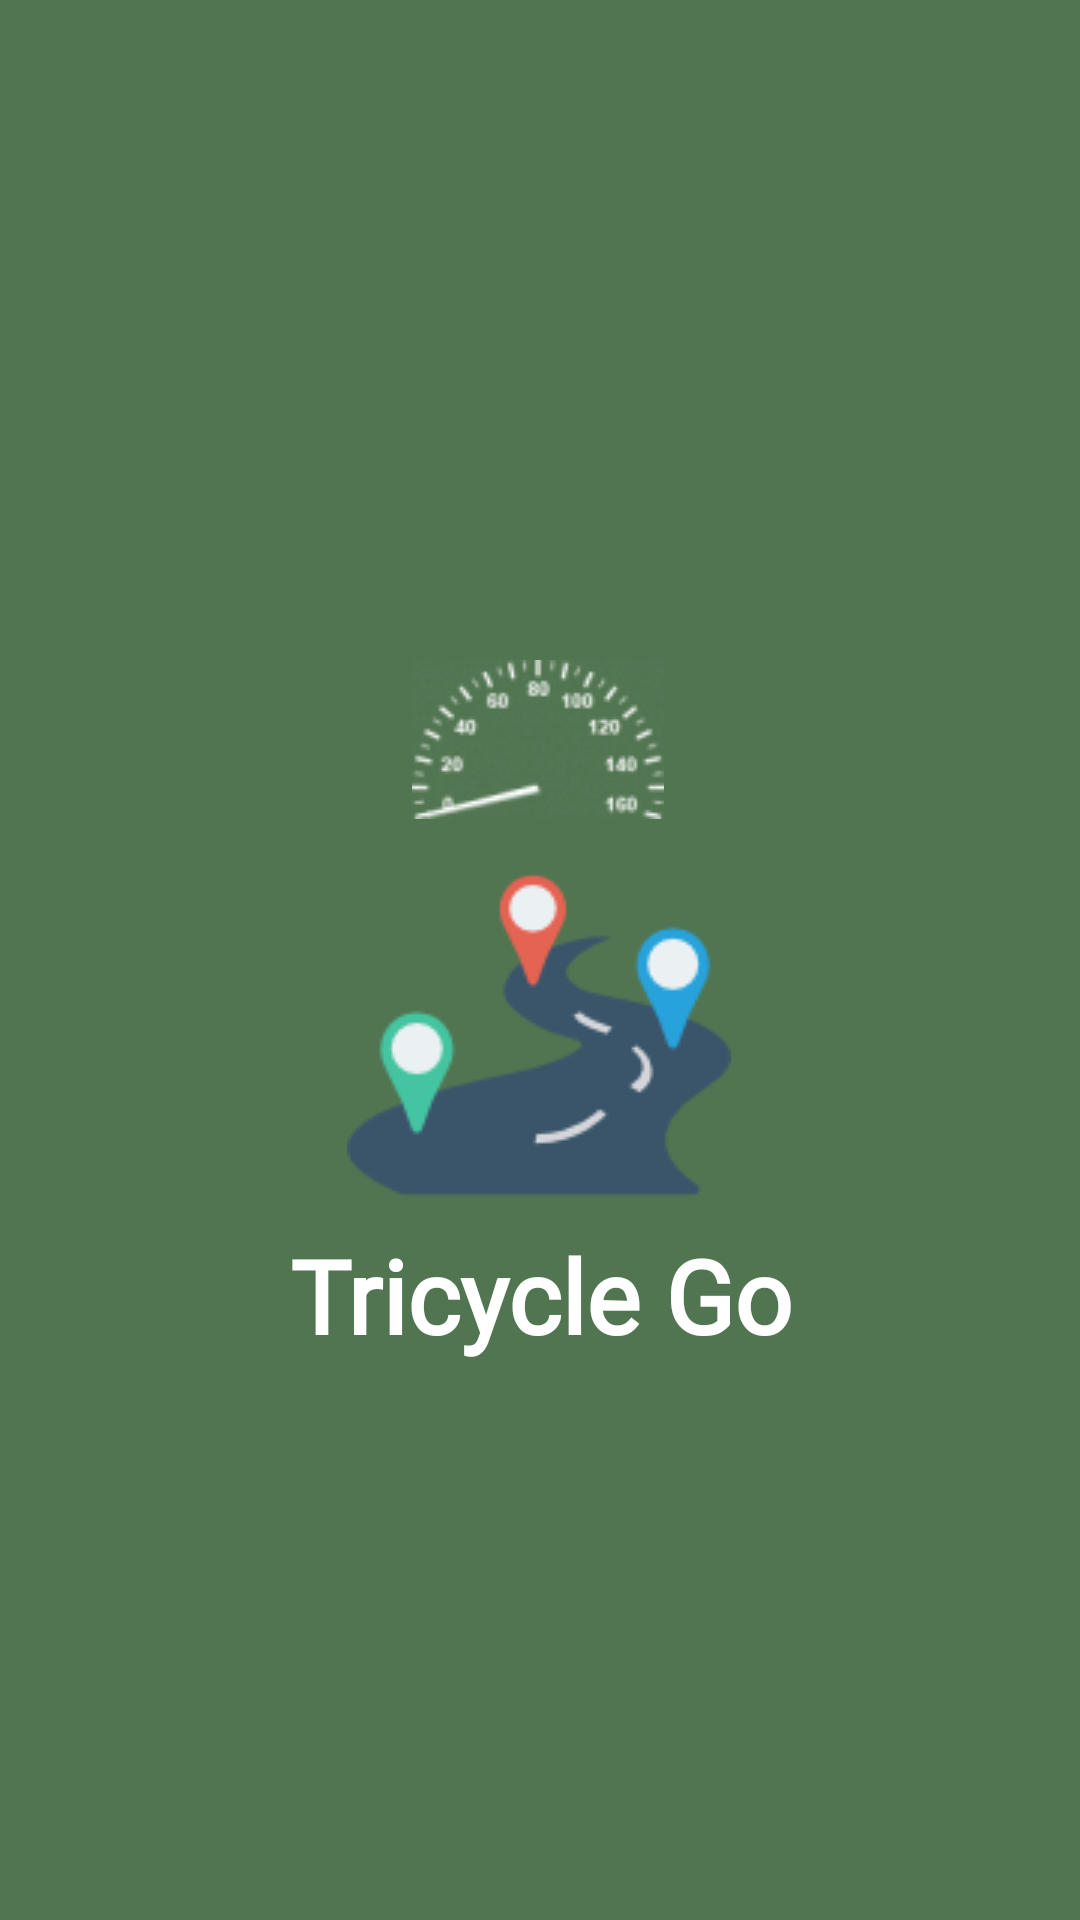

Icon click points for this 1080x1920 phone screenshot, format point (x, y):
loadingmeter: point (538, 739)
